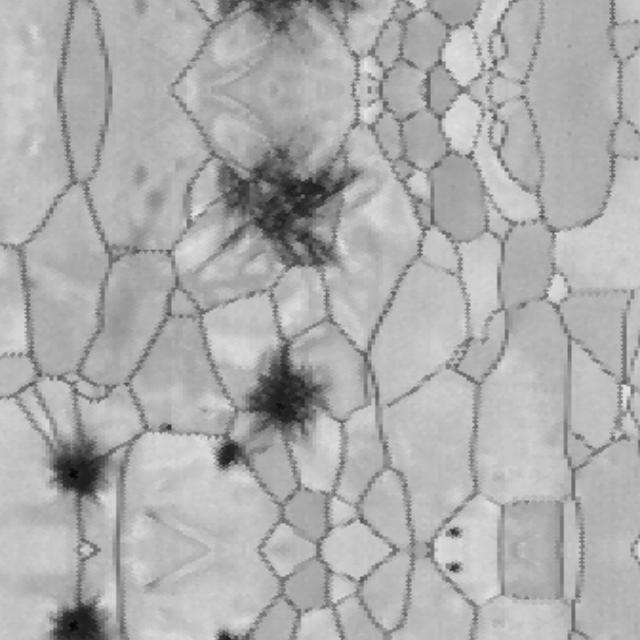good_void: (198, 141, 376, 277), (229, 345, 330, 454), (201, 0, 376, 39), (41, 443, 127, 512), (42, 590, 126, 640), (203, 427, 254, 473), (203, 629, 254, 640), (157, 419, 177, 439), (446, 528, 462, 542), (446, 560, 462, 574)
